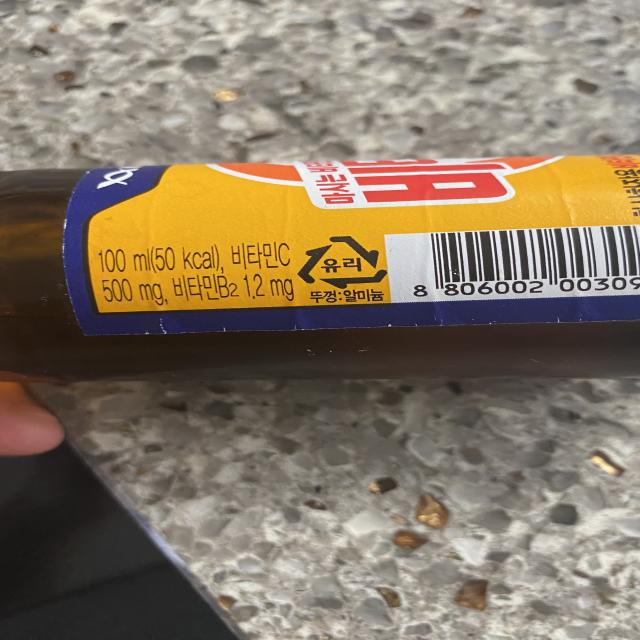Glass: (294, 232, 392, 292)
